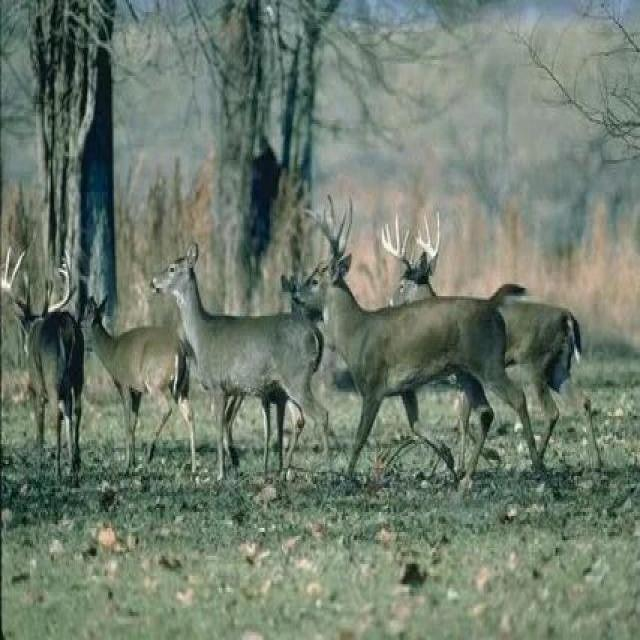deer: (308, 234, 526, 506), (414, 235, 638, 489), (172, 236, 369, 484), (0, 273, 166, 478), (103, 293, 222, 443)
